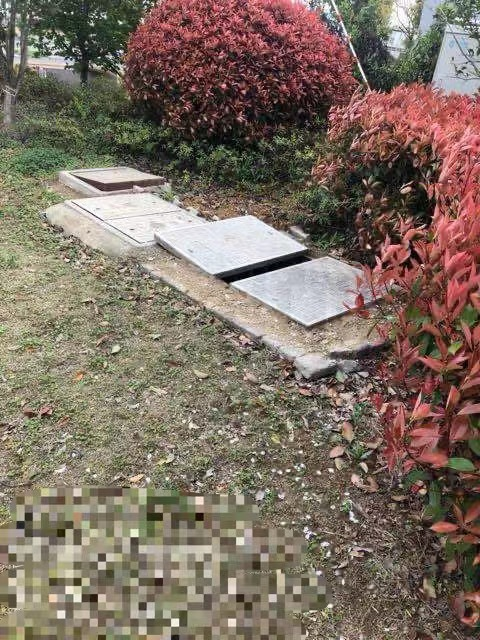well: (56, 214, 445, 344), (66, 164, 176, 193)
